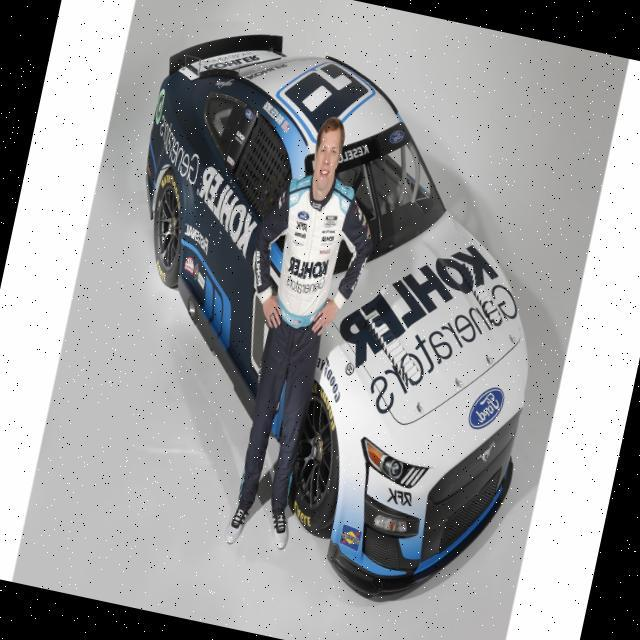Kohler: (185, 160, 265, 255), (284, 250, 330, 286)
